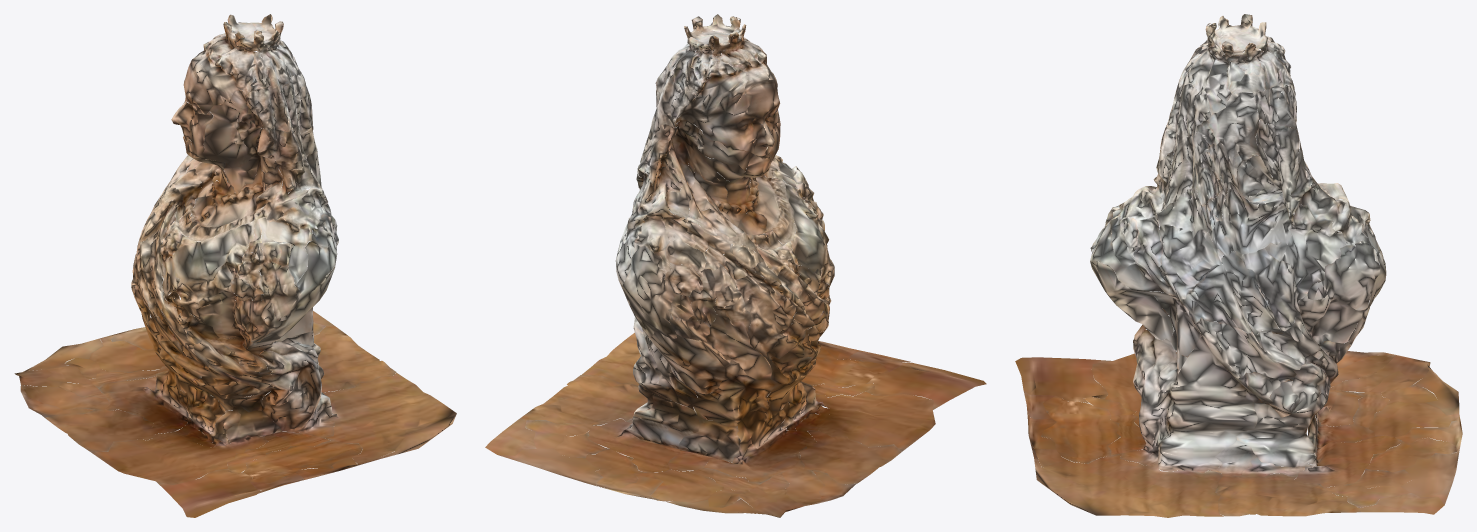
The model's file is queen.glb.
The picture shows the model from 3 angles, left to right: view 1: azimuth 30°, elevation 25°; view 2: azimuth 150°, elevation 25°; view 3: azimuth 270°, elevation 25°; orthographic projection. The views are drawn at different scales.
Visible parts, largest first — view 1: queen_body; view 2: queen_body; view 3: queen_body.
Boxes of the visible parts, x1,y1,x2,y2 form: queen_body: (14, 14, 456, 517); queen_body: (485, 14, 986, 517); queen_body: (1015, 14, 1462, 517).
Size of the model in its own units: 0.228 by 0.27 by 0.2577.
1 material, 1 textured.
